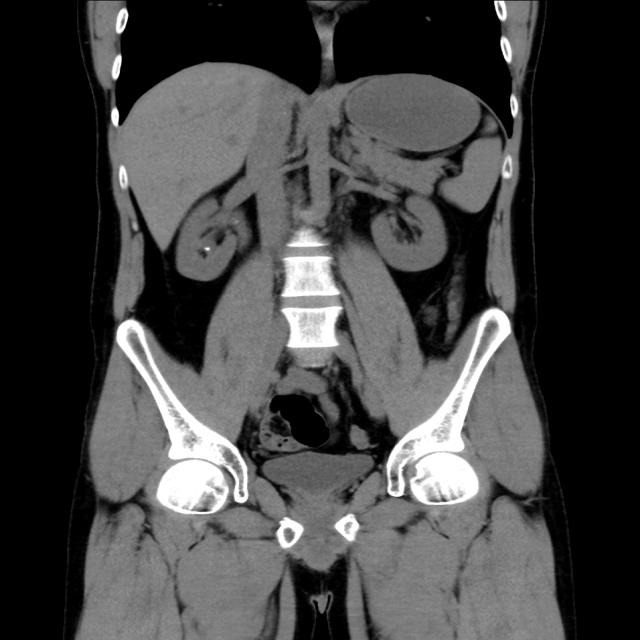kidneystone: (203, 246, 212, 256)
